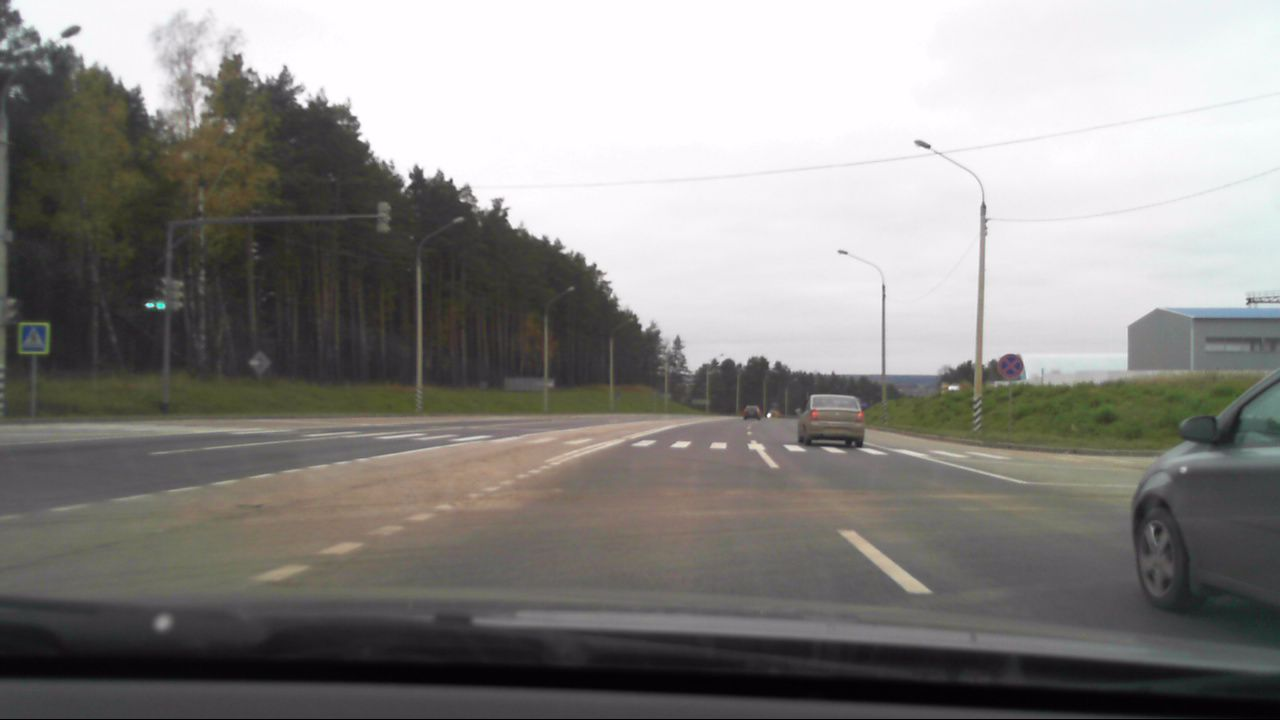No Parking: (997, 351, 1027, 380)
